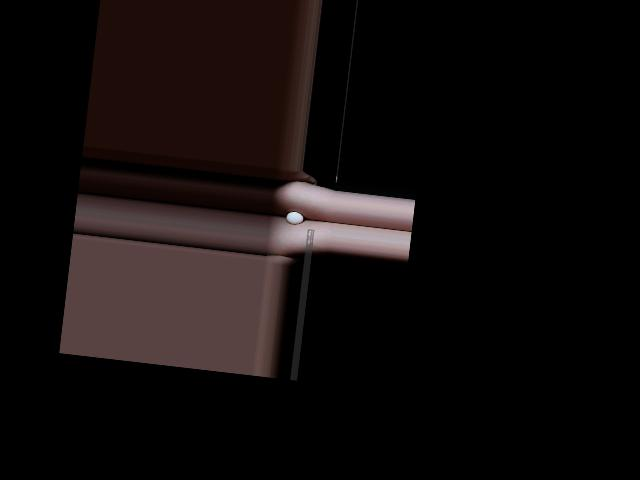egg: (286, 211, 304, 225)
